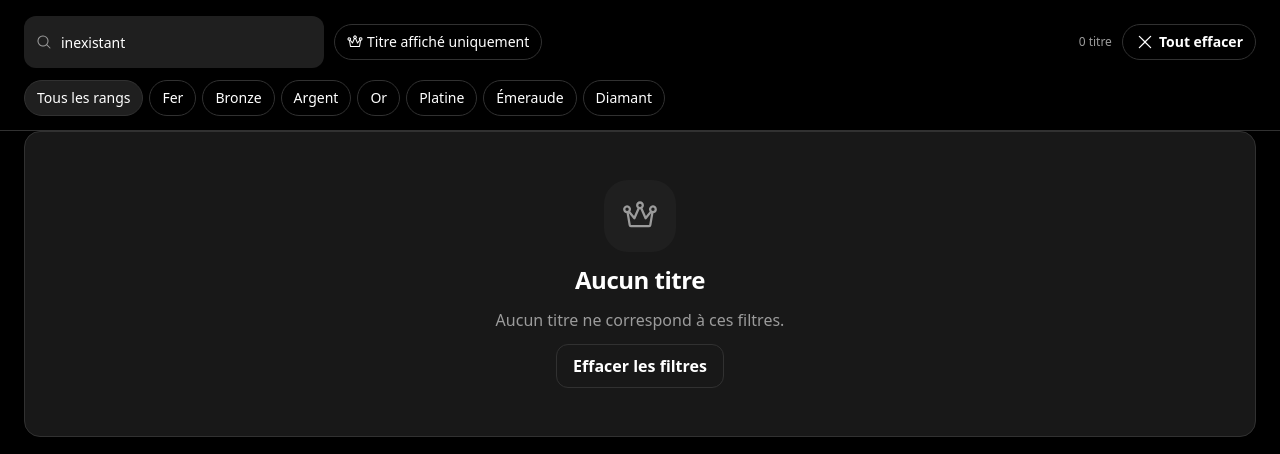
Test: ProfileTitlesSection › propose d'effacer les filtres quand aucun titre ne correspond
Expected: the text "Aucun titre" is shown, [575, 264, 705, 296]
Click the button "Effacer les filtres": (640, 366) [556, 344, 724, 388]
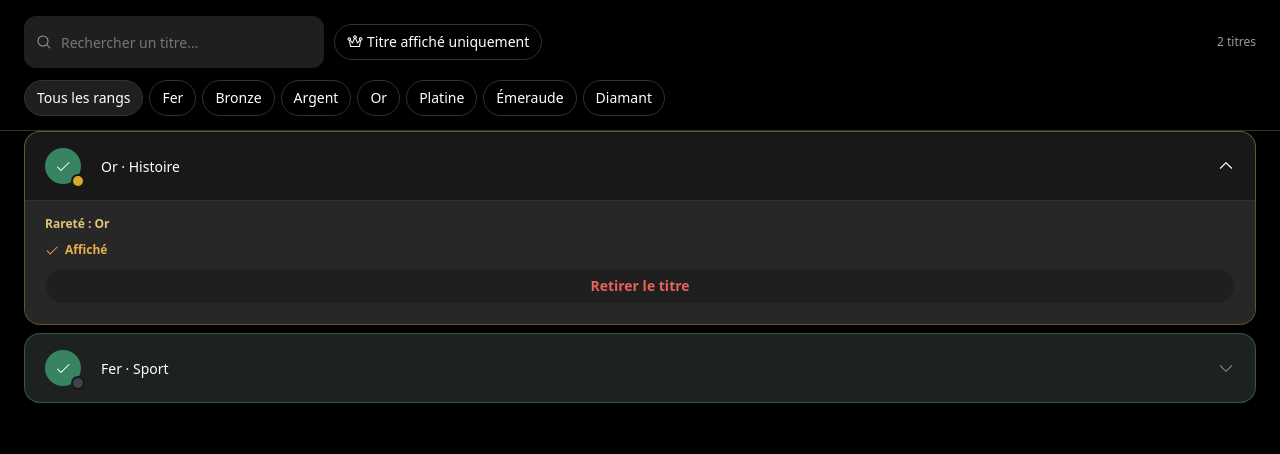
Result: the button "Or · Histoire" is shown at [25, 132, 1255, 200]
Result: the button "Fer · Sport" is shown at [25, 334, 1255, 402]
